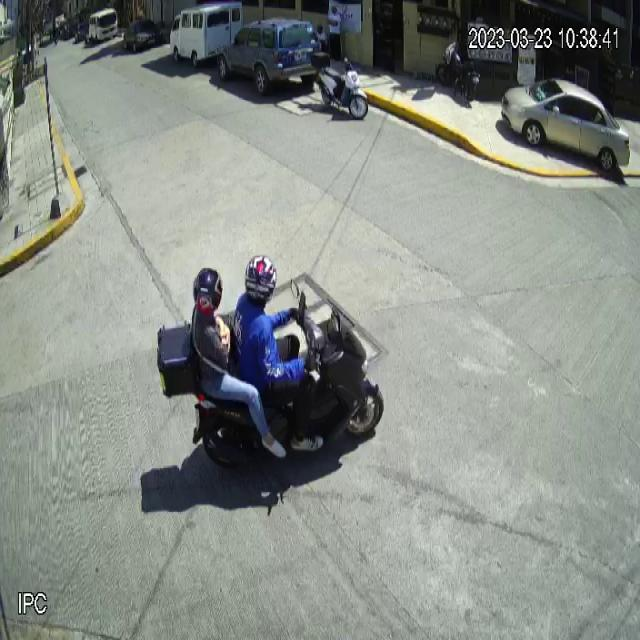Car: (500, 77, 631, 173), (217, 17, 323, 89)
Motorcycle: (156, 282, 382, 470), (310, 48, 368, 122)
Van: (170, 0, 243, 70)
